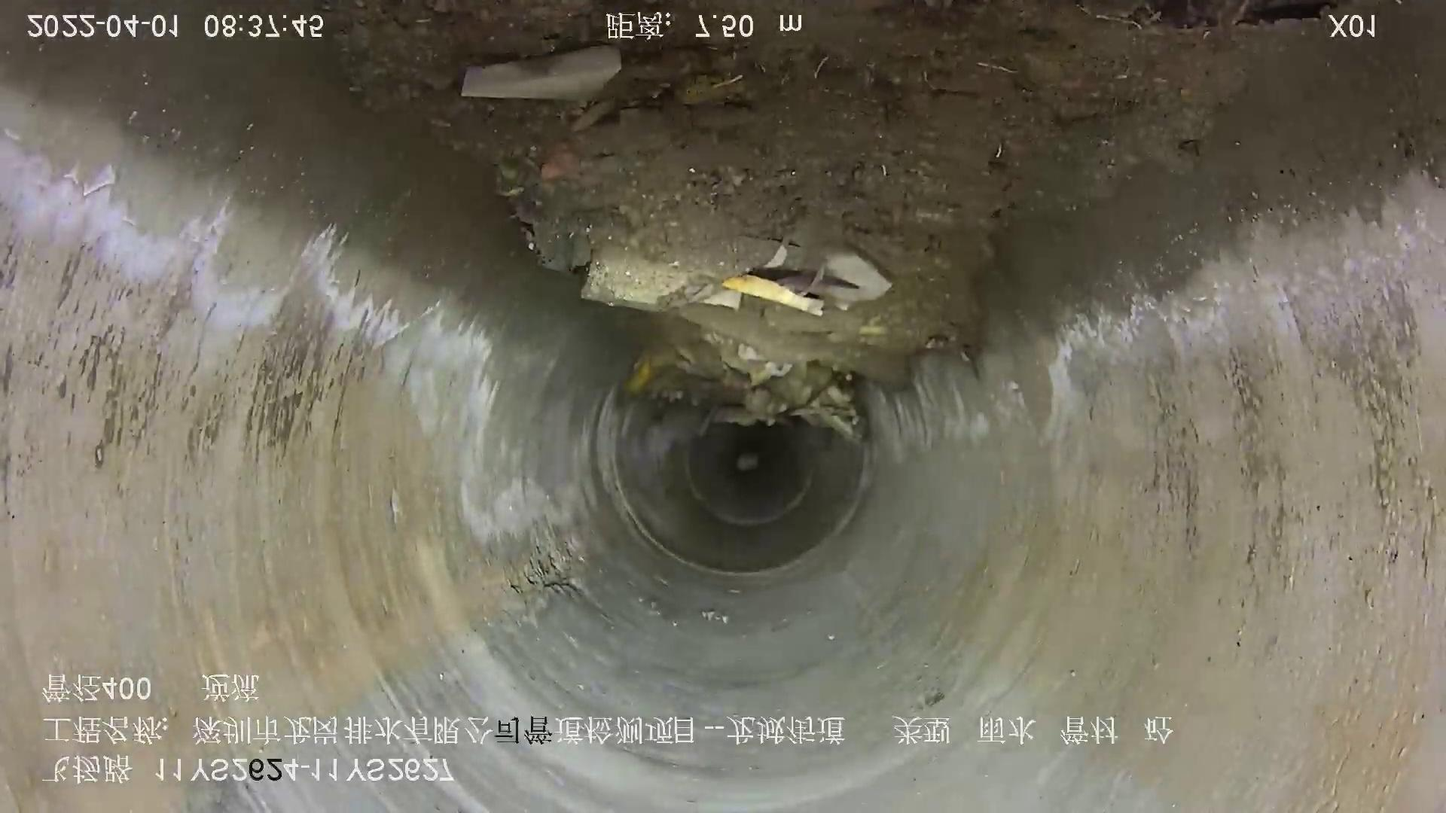CJ: (322, 1, 1341, 434)
CKTJ: (607, 399, 874, 581), (678, 440, 818, 529)
